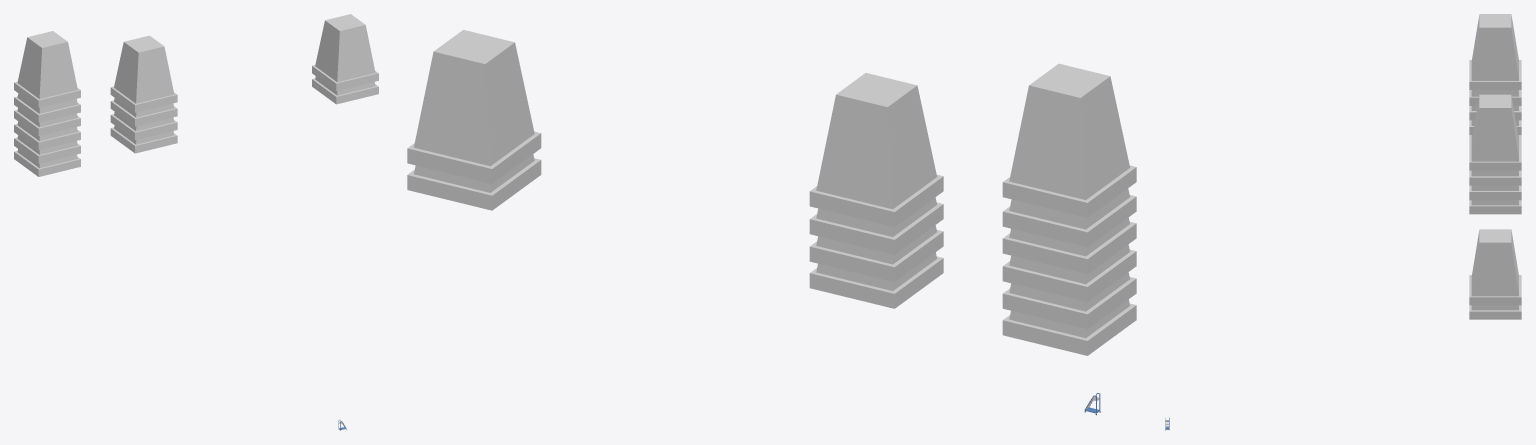
The model's file is Ladder.glb.
The picture shows the model from 3 angles, left to right: view 1: azimuth 30°, elevation 25°; view 2: azimuth 150°, elevation 25°; view 3: azimuth 270°, elevation 25°; orthographic projection. The views are drawn at different scales.
Parts seen in each view (by area): view 1: SI_KitchenCounter_Cups; view 2: SI_KitchenCounter_Cups; view 3: SI_KitchenCounter_Cups.
Part boxes in pixels (left/top/right/bottom): SI_KitchenCounter_Cups: left=14, top=14, right=378, bottom=176; SI_KitchenCounter_Cups: left=407, top=30, right=1136, bottom=355; SI_KitchenCounter_Cups: left=1469, top=14, right=1521, bottom=319.
Size of the model in its own units: 1.59 by 1.39 by 1.34.
2 materials, 2 textured.
